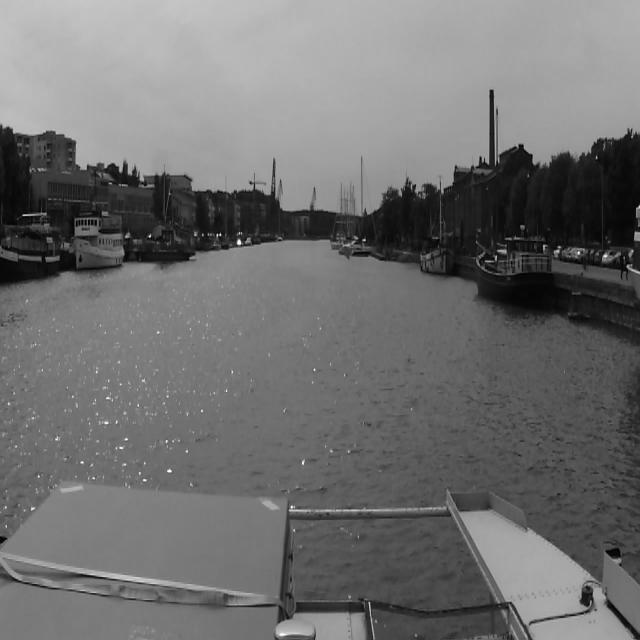ship: (475, 235, 555, 313), (0, 214, 62, 286), (67, 213, 125, 270), (136, 229, 196, 264), (421, 230, 453, 276), (220, 177, 230, 250), (350, 242, 374, 257)
